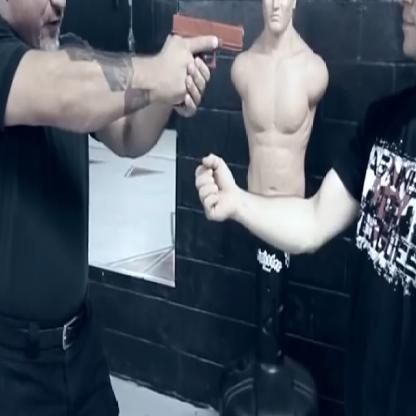gun: (170, 10, 245, 70)
